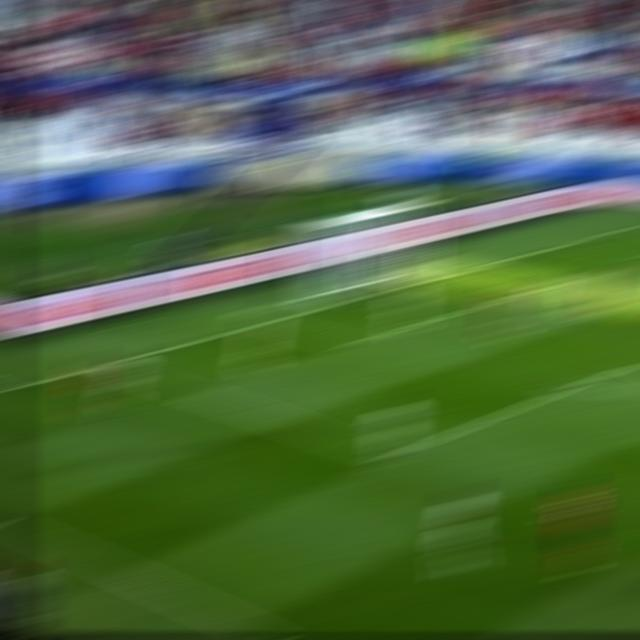bigarea_top_outter: (557, 234, 595, 248)
bottom_arc_area_intersection: (550, 376, 593, 397)
smallarea_bottom_inner: (331, 332, 369, 353)
smallarea_bottom_outter: (253, 311, 290, 329)
smallarea_top_outter: (457, 259, 497, 276)
